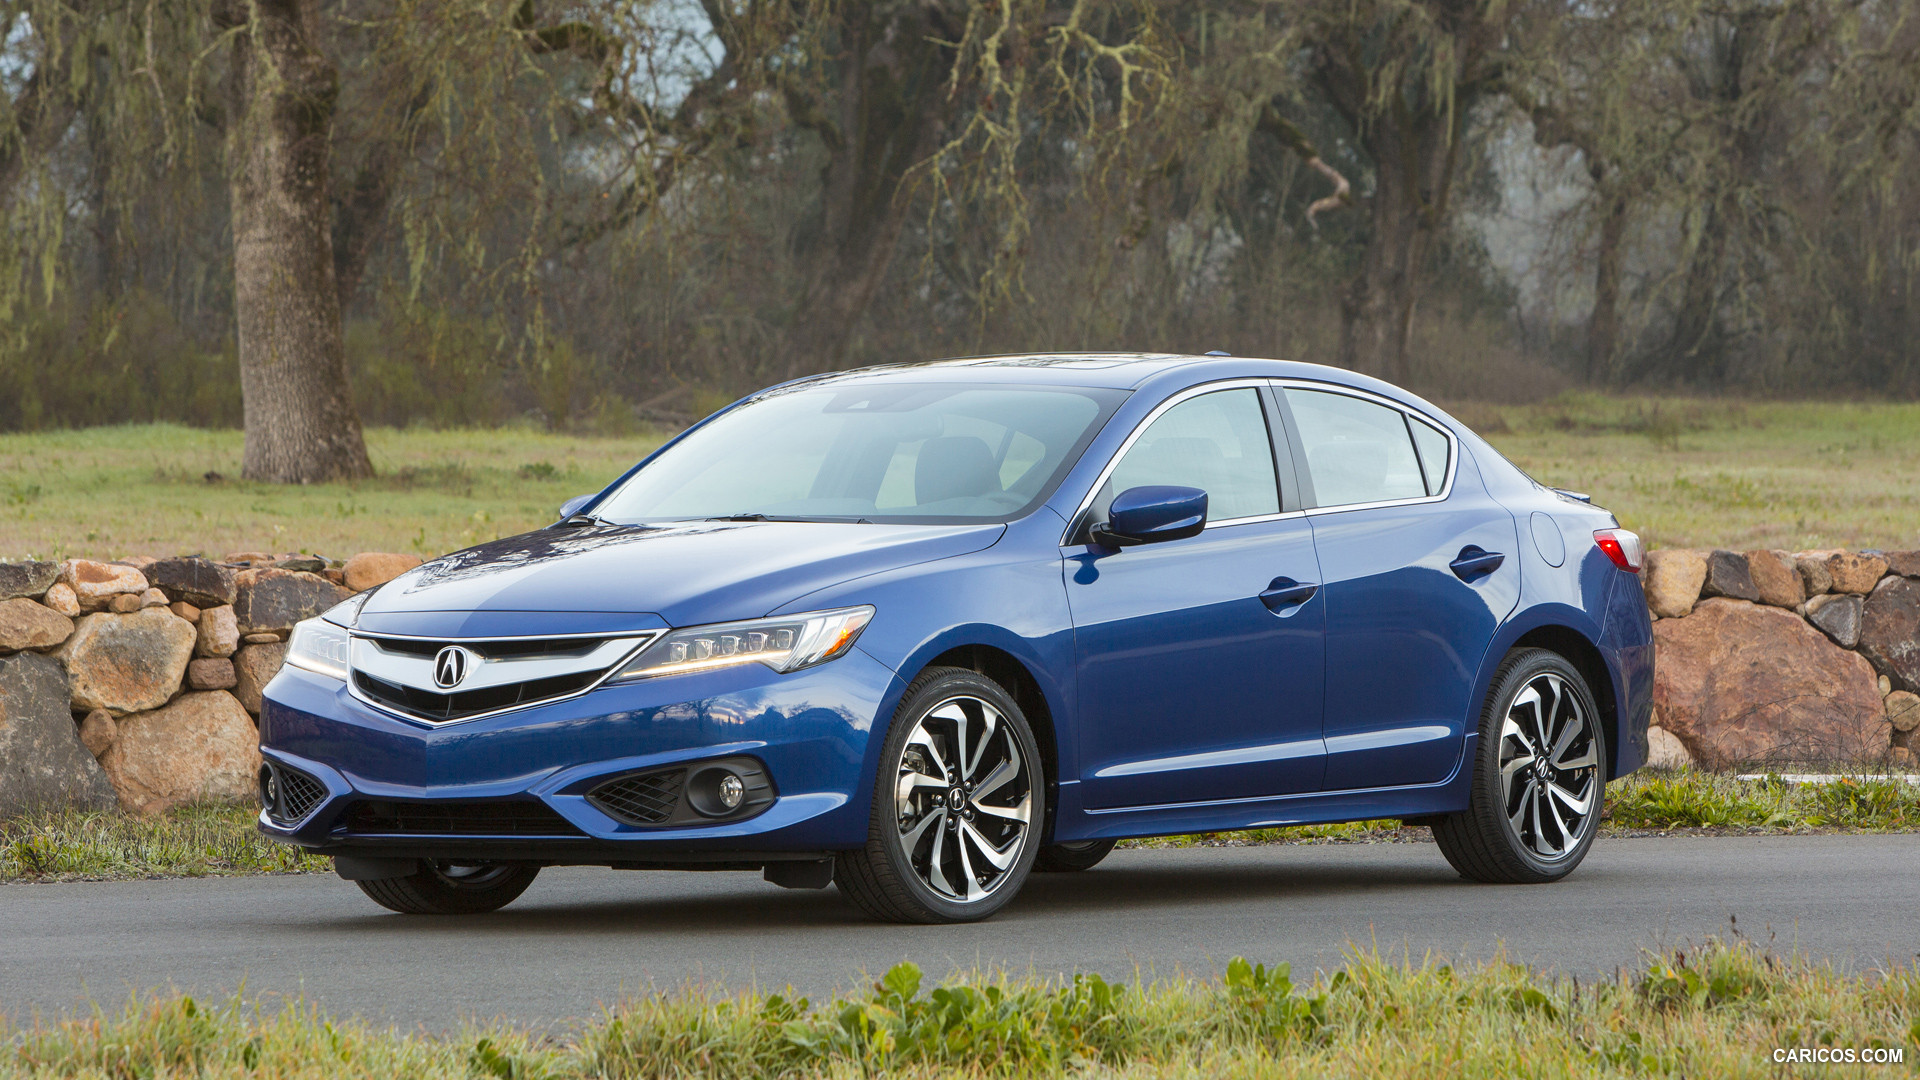Fog Lamp & Scope: (578, 748, 785, 833)
Front: (252, 527, 1011, 843)
Front Bumper: (237, 721, 873, 851)
Grill: (332, 629, 629, 735)
Headlight: (597, 597, 884, 702)
